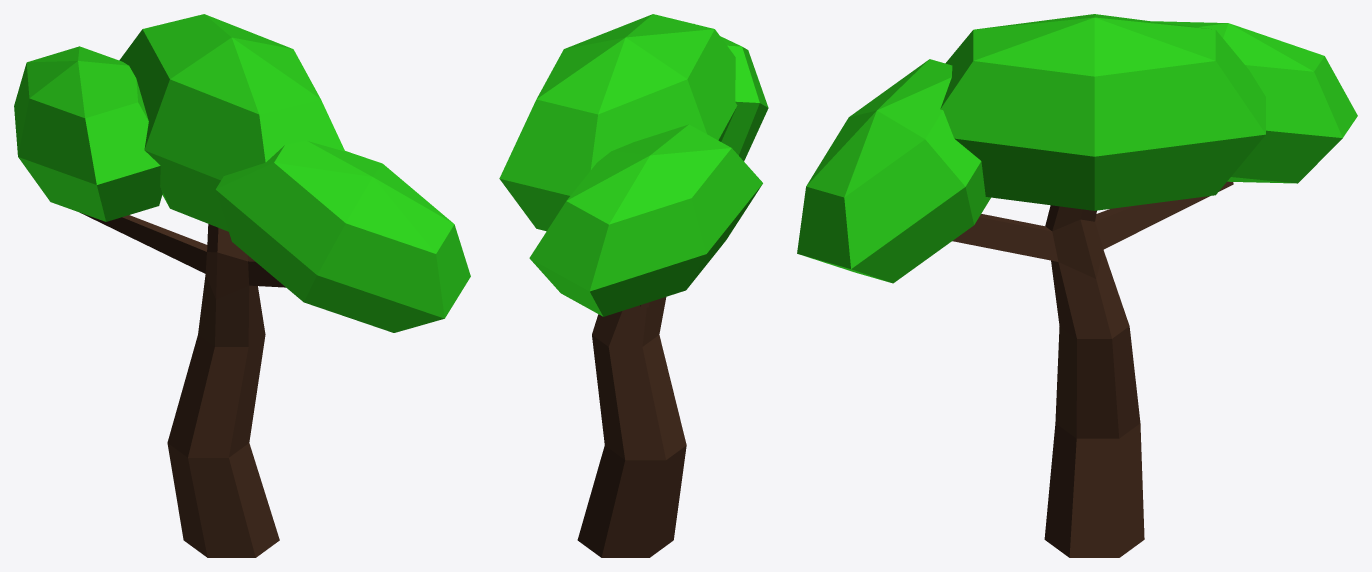
Rendered from tree2.fbx.
3 renders of one model, left to right at view 1: azimuth 30°, elevation 25°; view 2: azimuth 150°, elevation 25°; view 3: azimuth 270°, elevation 25°, orthographic. The views are drawn at different scales.
Parts seen in each view (by area): view 1: Cylinder; view 2: Cylinder; view 3: Cylinder.
Boxes of the visible parts, x1,y1,x2,y2 form: Cylinder: [14, 14, 470, 557]; Cylinder: [499, 14, 768, 557]; Cylinder: [797, 14, 1357, 557].
Size of the model in its own units: 308 by 550 by 535.
